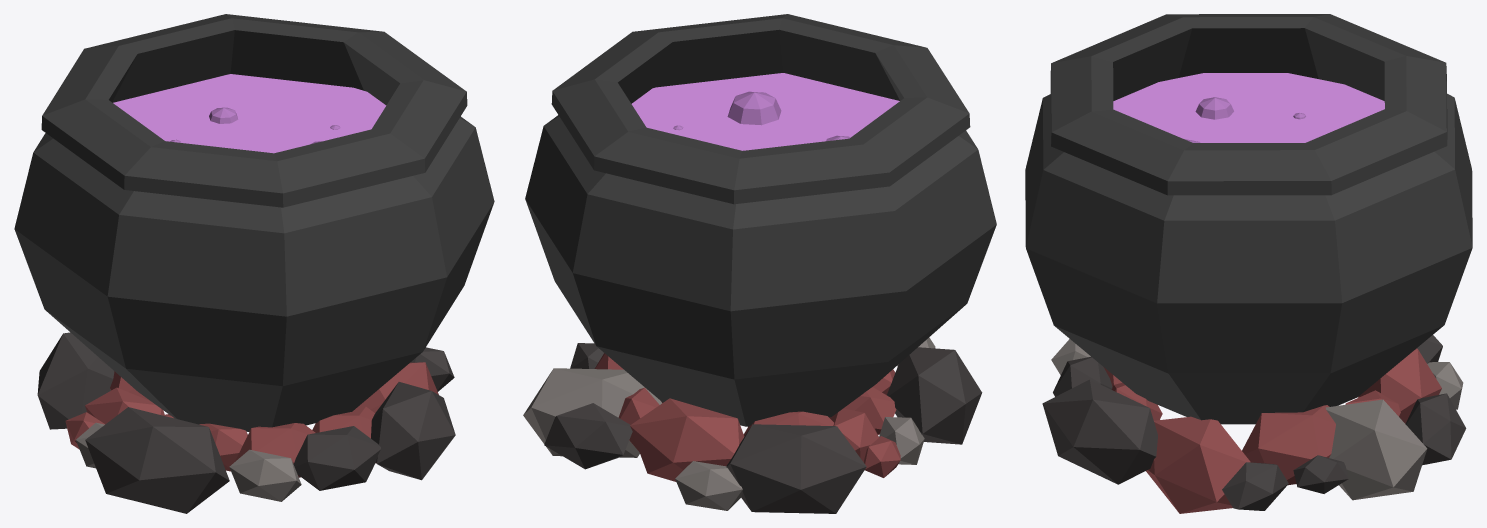
File: Calderone 1.fbx
3 views of the same model, side by side, from view 1: azimuth 30°, elevation 25°; view 2: azimuth 150°, elevation 25°; view 3: azimuth 270°, elevation 25° (orthographic).
Visible parts, largest first — view 1: Cylinder.023_Cylinder.015; view 2: Cylinder.023_Cylinder.015; view 3: Cylinder.023_Cylinder.015.
Part boxes in pixels (left/top/right/bottom): Cylinder.023_Cylinder.015: left=14, top=14, right=494, bottom=513; Cylinder.023_Cylinder.015: left=523, top=14, right=996, bottom=513; Cylinder.023_Cylinder.015: left=1025, top=14, right=1472, bottom=513.
Bounding box in the file's own units: 436 × 399 × 436.
1 material, 1 textured.
